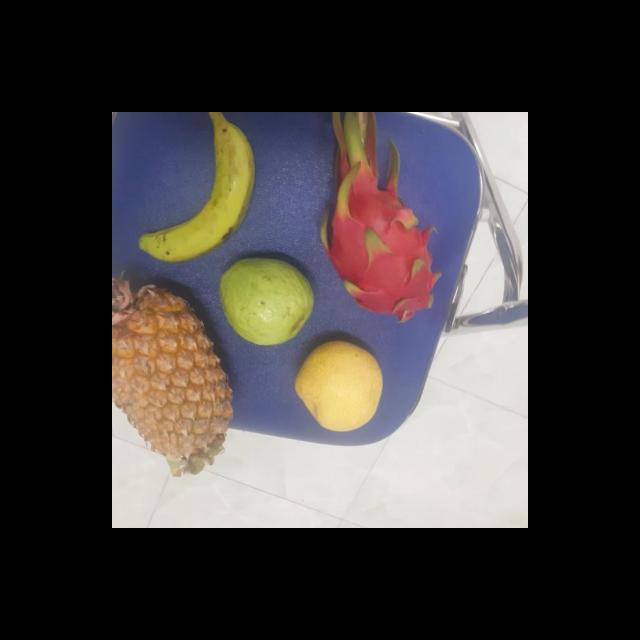banana: (143, 120, 260, 258)
guava: (218, 258, 318, 344)
pear: (292, 340, 388, 431)
pineapple: (112, 281, 232, 464)
pitaya: (322, 172, 444, 318)
